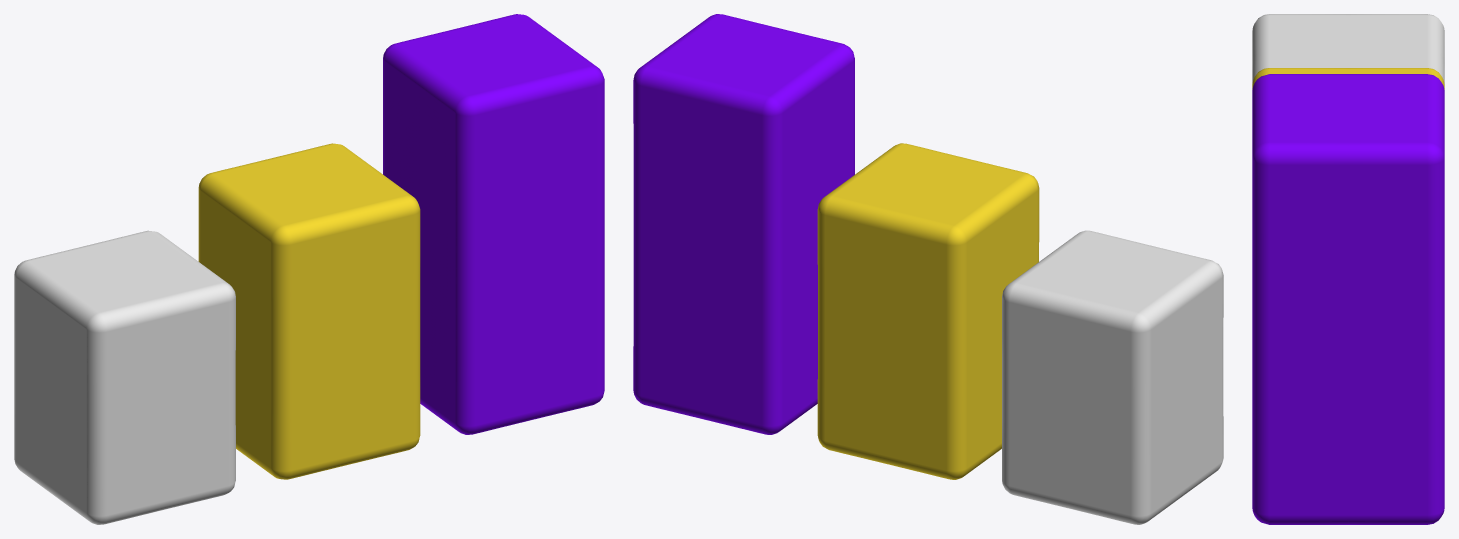
File: graph.glb
3 renders of one model, left to right at view 1: azimuth 30°, elevation 25°; view 2: azimuth 150°, elevation 25°; view 3: azimuth 270°, elevation 25°, orthographic. The views are drawn at different scales.
Parts seen in each view (by area): view 1: Object_4.001, Object_3.001, Object_1.002; view 2: Object_4.001, Object_3.001, Object_1.002; view 3: Object_4.001, Object_1.002, Object_3.001.
Part boxes in pixels (x1=…): Object_4.001: x1=383, y1=14, x2=604, y2=434; Object_3.001: x1=198, y1=143, x2=420, y2=479; Object_1.002: x1=14, y1=230, x2=235, y2=524; Object_4.001: x1=633, y1=14, x2=854, y2=434; Object_3.001: x1=817, y1=143, x2=1039, y2=479; Object_1.002: x1=1002, y1=230, x2=1223, y2=524; Object_4.001: x1=1252, y1=74, x2=1444, y2=524; Object_1.002: x1=1252, y1=14, x2=1444, y2=83; Object_3.001: x1=1252, y1=68, x2=1444, y2=89.
Bounding box in the file's own units: 2.14 × 1.34 × 0.611.
